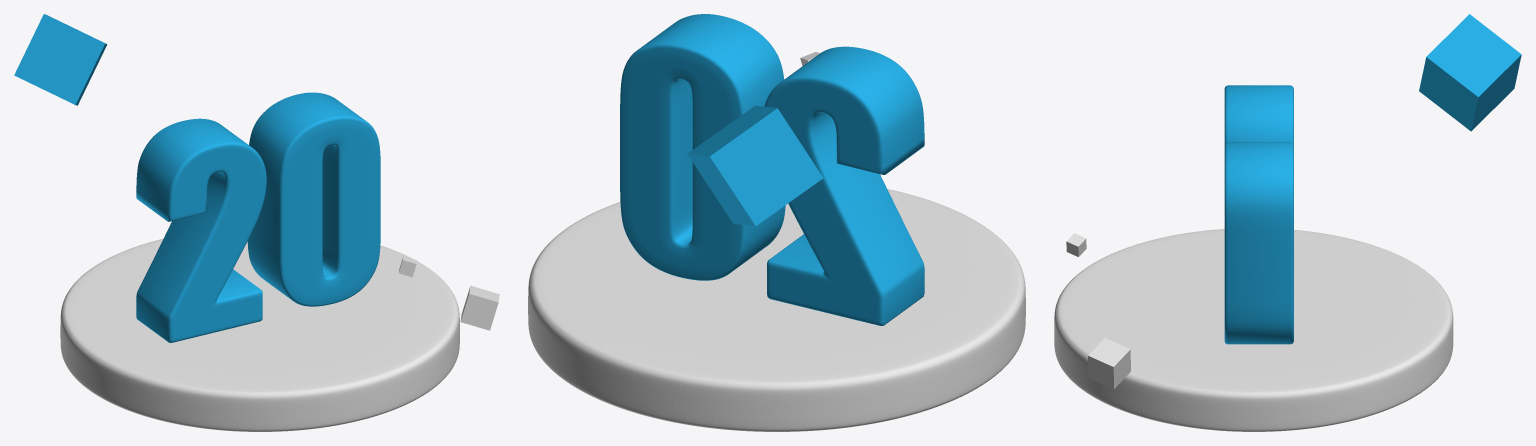
Rendered from aniversario.glb.
3 renders of one model, left to right at view 1: azimuth 30°, elevation 25°; view 2: azimuth 150°, elevation 25°; view 3: azimuth 270°, elevation 25°, orthographic. The views are drawn at different scales.
Parts seen in each view (by area): view 1: plataforma, numeros, cubo2, cubo1; view 2: plataforma, numeros, cubo2; view 3: plataforma, numeros, cubo2, cubo1.
Boxes of the visible parts, bbox=[...] form: plataforma: bbox=[60, 238, 459, 431]; numeros: bbox=[136, 92, 380, 342]; cubo2: bbox=[14, 14, 107, 105]; cubo1: bbox=[460, 285, 499, 330]; plataforma: bbox=[528, 189, 1025, 431]; numeros: bbox=[620, 14, 924, 325]; cubo2: bbox=[687, 105, 823, 226]; plataforma: bbox=[1054, 229, 1453, 431]; numeros: bbox=[1224, 85, 1293, 344]; cubo2: bbox=[1419, 14, 1521, 131]; cubo1: bbox=[1088, 338, 1130, 388].
Size of the model in its own units: 1.99 by 1.55 by 2.33.
